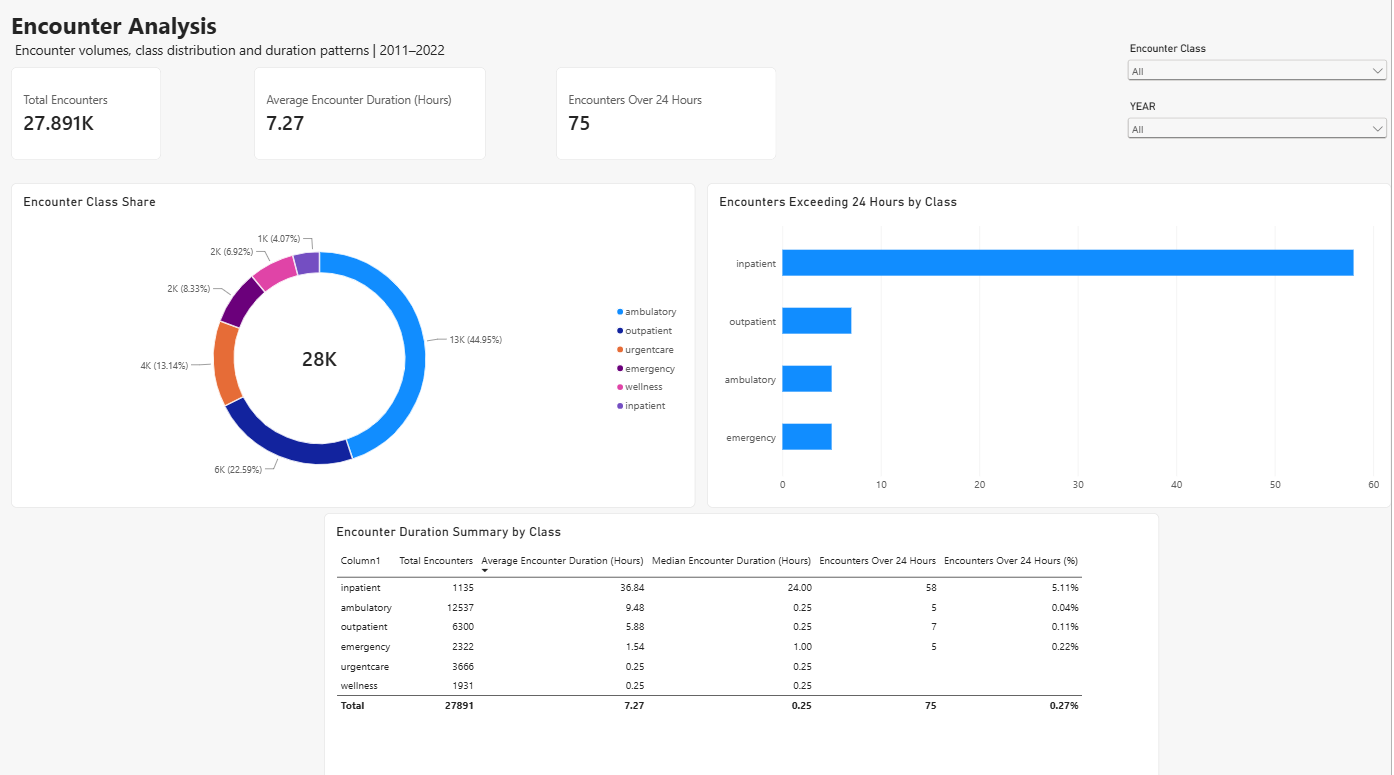

The dashboard page shown, as its layout file describes it:
{"tool":"powerbi","page":{"name":"Encounter Analysis","canvas":[1920,1080],"ordinal":1},"visuals":[{"type":"textbox","box":[16,16,752,80],"z":0},{"type":"cardVisual","fields":{"Data":["fact_encounters.Total Encounters"]},"box":[16,96,208,128],"z":1},{"type":"cardVisual","fields":{"Data":["fact_encounters.Average Encounter Duration (Hours)"]},"box":[352,96,320,128],"z":2},{"type":"cardVisual","fields":{"Data":["fact_encounters.Encounters Over 24 Hours"]},"box":[768,96,304,128],"z":3},{"type":"donutChart","title":"Encounter Class Share","fields":{"Category":["dim_encounter_class.Column1"],"Y":["fact_encounters.Total Encounters"]},"box":[16,256,944,448],"z":4},{"type":"clusteredBarChart","title":"Encounters Exceeding 24 Hours by Class","fields":{"Category":["dim_encounter_class.Column1"],"Y":["fact_encounters.Encounters Over 24 Hours"]},"box":[976,256,944,448],"z":5},{"type":"tableEx","title":"Encounter Duration Summary by Class","fields":{"Values":["dim_encounter_class.Column1","fact_encounters.Total Encounters","fact_encounters.Average Encounter Duration (Hours)","fact_encounters.Median Encounter Duration (Hours)","fact_encounters.Encounters Over 24 Hours","fact_encounters.Encounters Over 24 Hours (%)"]},"box":[448,712,1152,368],"z":6},{"type":"slicer","fields":{"Values":["dim_date.YEAR"]},"box":[1552,144,368,80],"z":7},{"type":"slicer","fields":{"Values":["dim_encounter_class.Column1"]},"box":[1552,64,368,80],"z":8}]}

Visuals, with their boxes in screenshot pixels (x1, y1, x2, y2), scaled from the page's 1920x1080 canvas onto the 1394x775 screenshot:
textbox: <bbox>12, 11, 558, 69</bbox>
cardVisual - fact_encounters.Total Encounters: <bbox>12, 69, 163, 161</bbox>
cardVisual - fact_encounters.Average Encounter Duration (Hours): <bbox>256, 69, 488, 161</bbox>
cardVisual - fact_encounters.Encounters Over 24 Hours: <bbox>558, 69, 778, 161</bbox>
"Encounter Class Share" donutChart: <bbox>12, 184, 697, 505</bbox>
"Encounters Exceeding 24 Hours by Class" clusteredBarChart: <bbox>709, 184, 1393, 505</bbox>
"Encounter Duration Summary by Class" tableEx: <bbox>325, 511, 1162, 774</bbox>
slicer - dim_date.YEAR: <bbox>1127, 103, 1393, 161</bbox>
slicer - dim_encounter_class.Column1: <bbox>1127, 46, 1393, 103</bbox>
